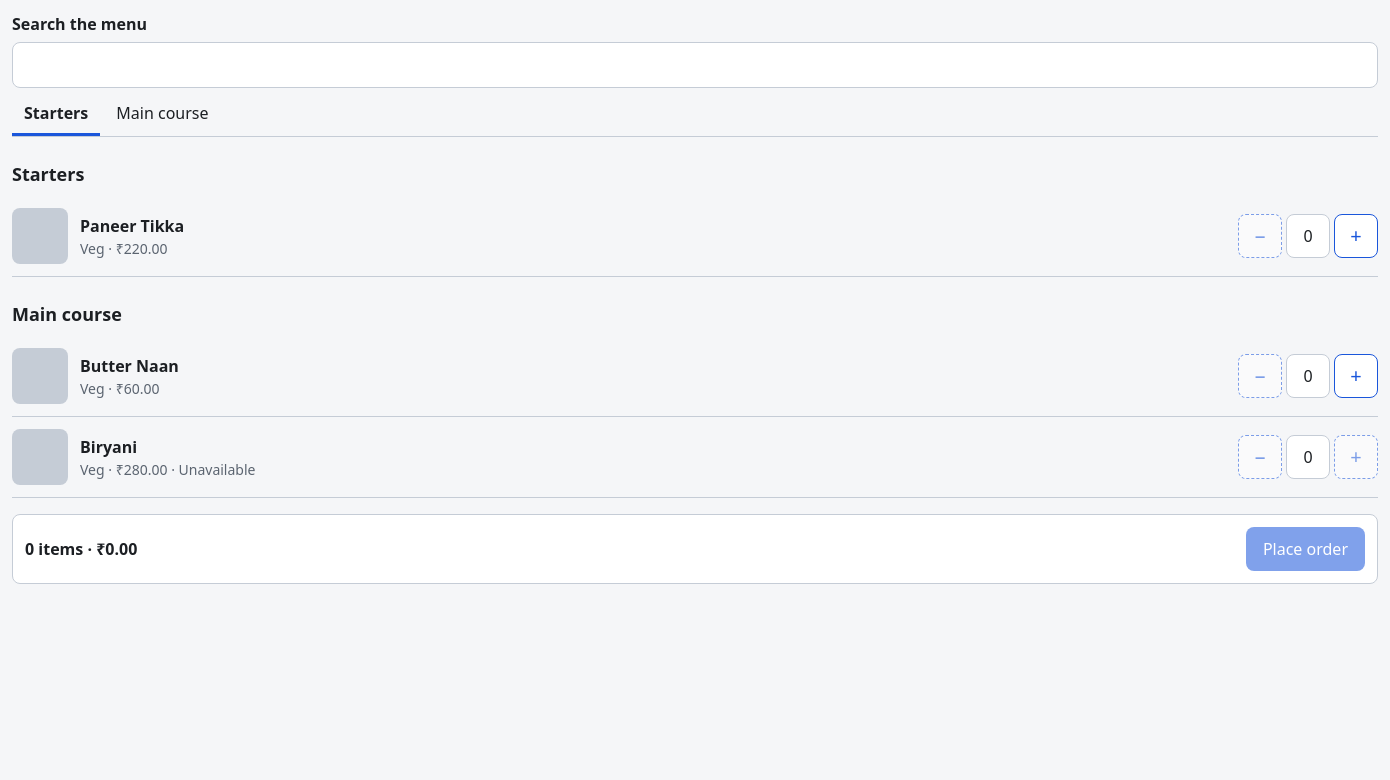
RestaurantPage: the cart › says “1 item” for one dish
Click the button named "Add Butter Naan" at [1356, 376], box [1334, 354, 1378, 398]
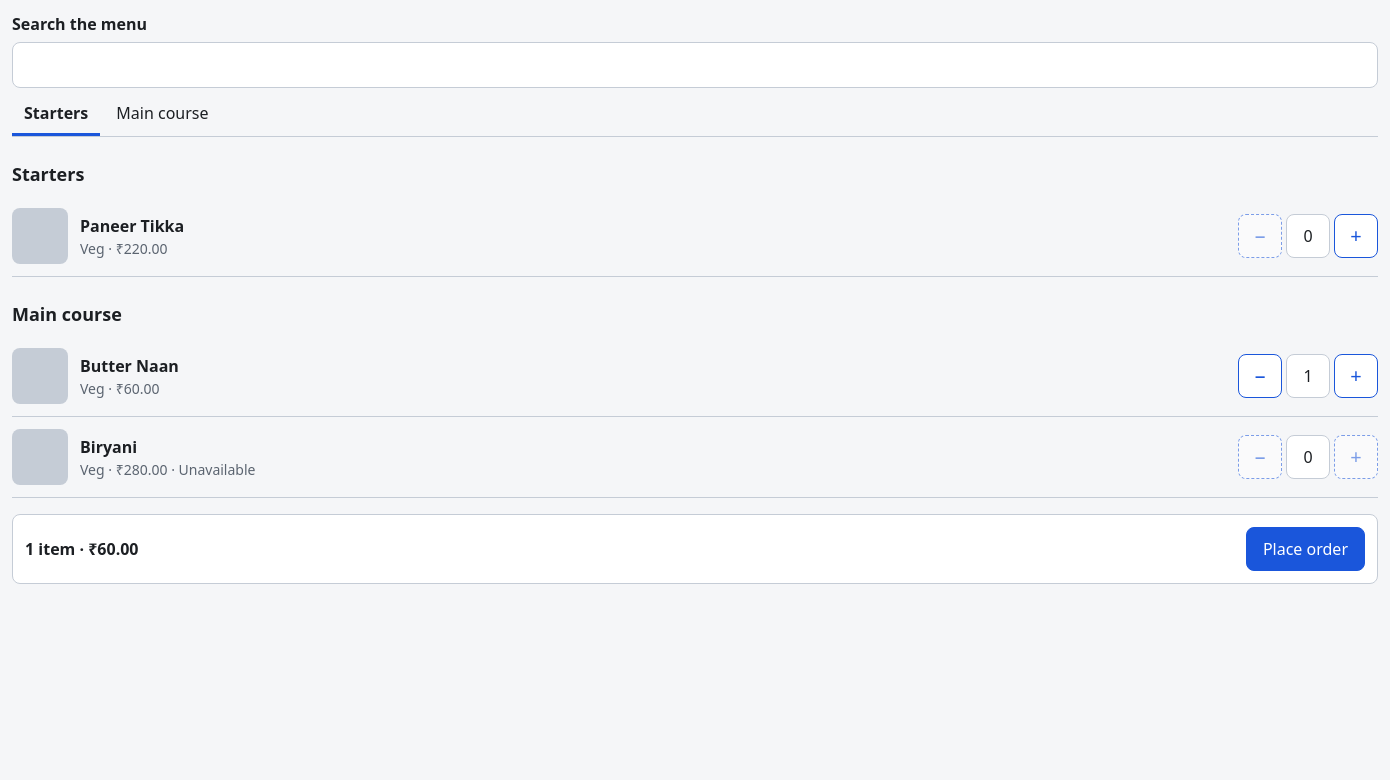
Expected: the text "1 item · ₹60.00" is shown, [25, 537, 138, 561]
